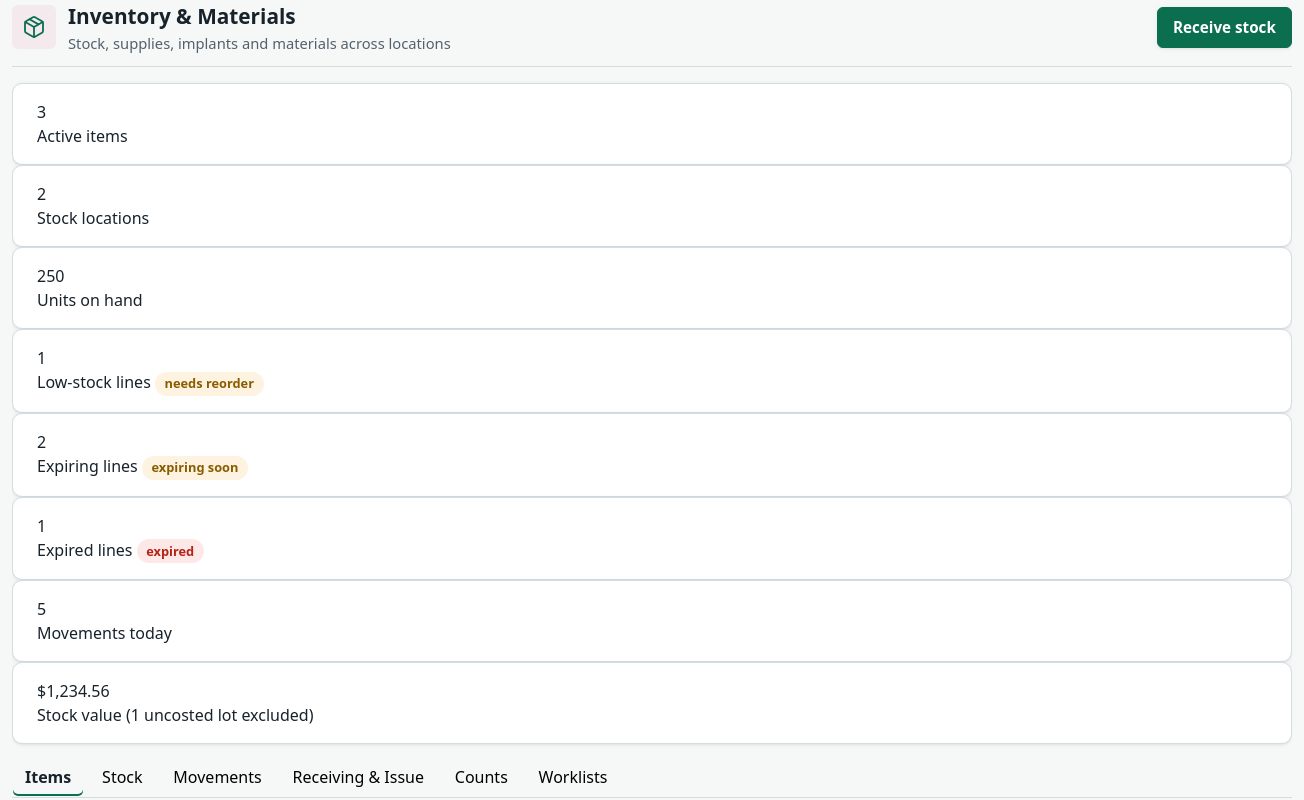
Test: InventoryPage › renders low-stock worklist rows with their deficit
expect the text "$1,234.56" is shown: met, box [37, 680, 110, 702]
Click the tab "Worklists" at (573, 777), box [526, 757, 620, 797]
(page scrolled)
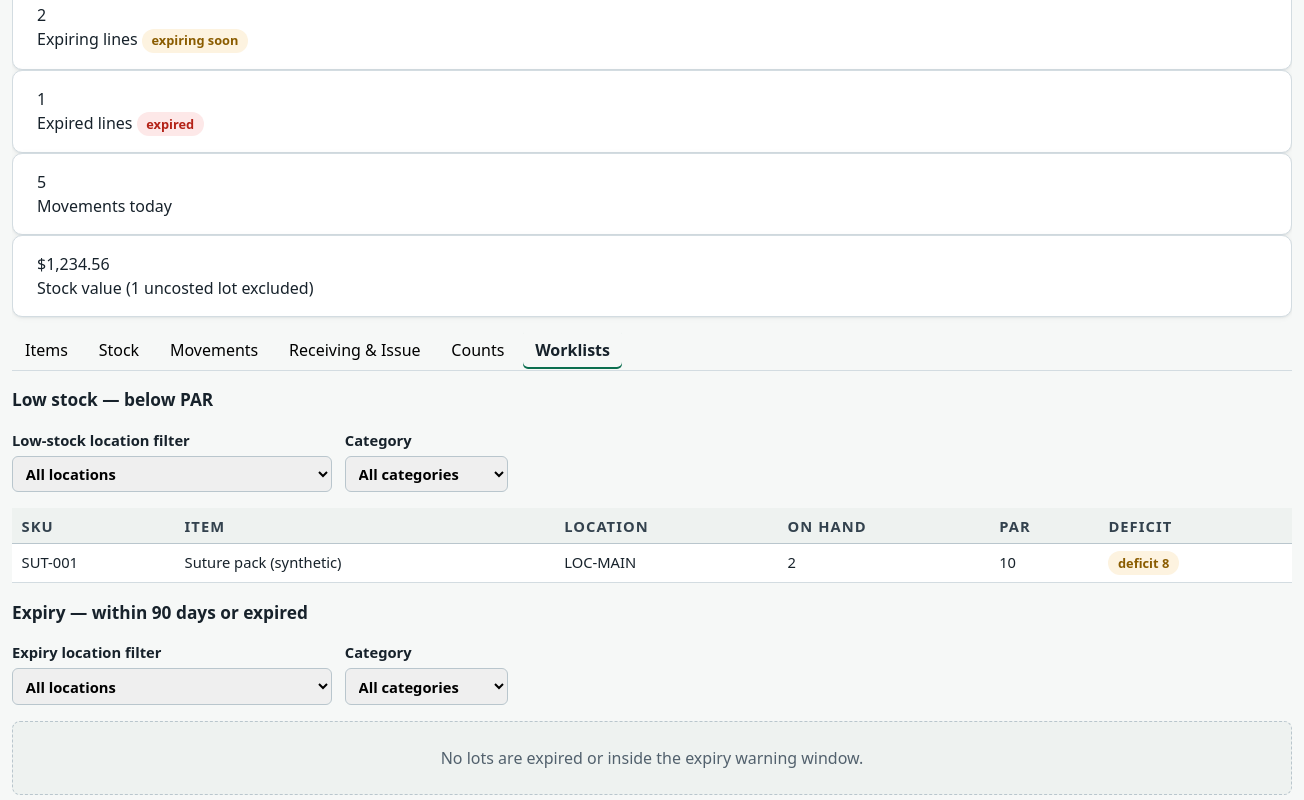
expect the text "deficit 8" is shown: met, box [1108, 551, 1179, 575]
expect the heading "Low stock — below PAR" is shown: met, box [12, 388, 213, 411]
